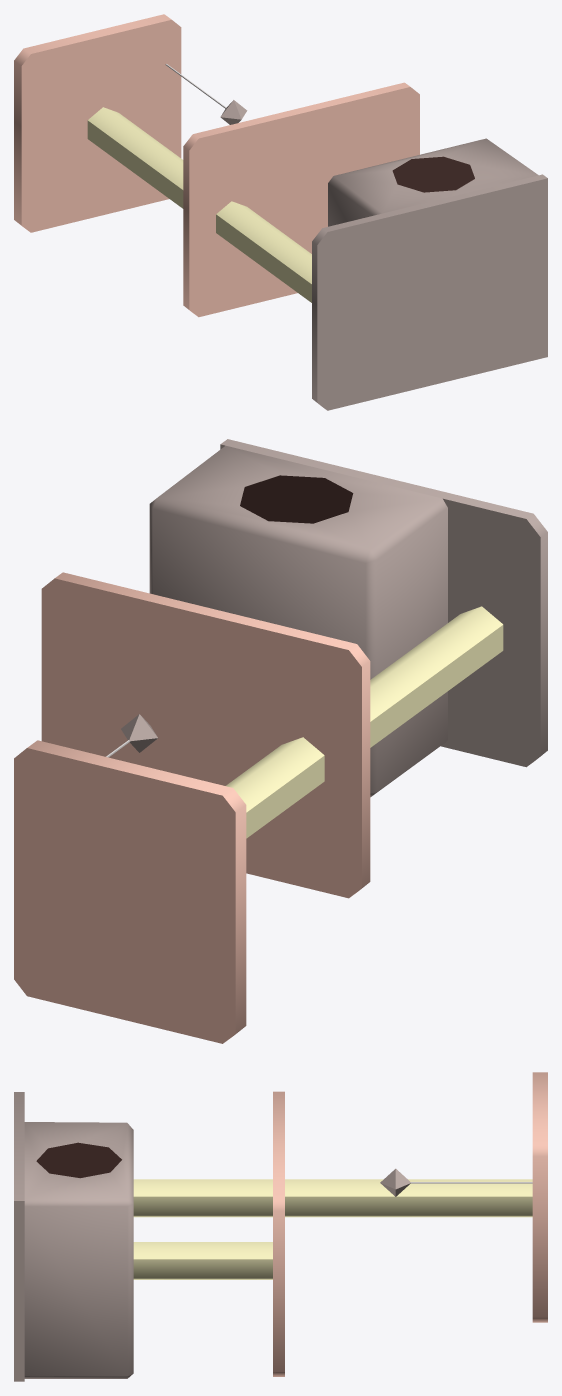
Rendered from printer.glb.
3 renders of one model, top to bottom at view 1: azimuth 30°, elevation 25°; view 2: azimuth 150°, elevation 25°; view 3: azimuth 270°, elevation 25°, orthographic. The views are drawn at different scales.
Visible parts, largest first — view 1: prop_014; view 2: prop_014; view 3: prop_014.
Boxes of the visible parts, left/top/right/bottom form: prop_014: left=14, top=14, right=547, bottom=410; prop_014: left=14, top=439, right=547, bottom=1043; prop_014: left=14, top=1072, right=547, bottom=1381.
Bounding box in the file's own units: 0.6987 × 0.4433 × 1.18.
1 material, 1 textured.
